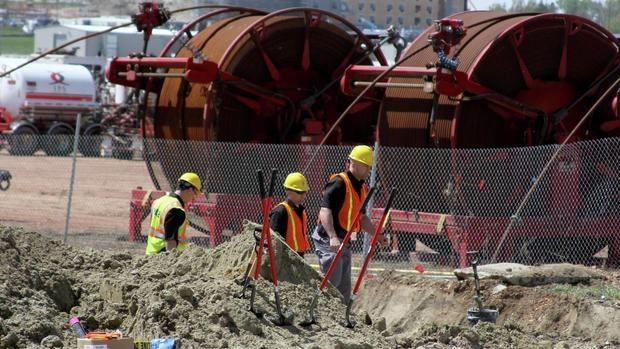helmet: (345, 142, 379, 172), (280, 169, 314, 199), (175, 168, 204, 199)
person: (316, 144, 373, 296), (143, 163, 201, 251), (270, 171, 311, 258)
vest: (145, 194, 192, 255), (272, 199, 313, 253), (338, 176, 370, 235)
